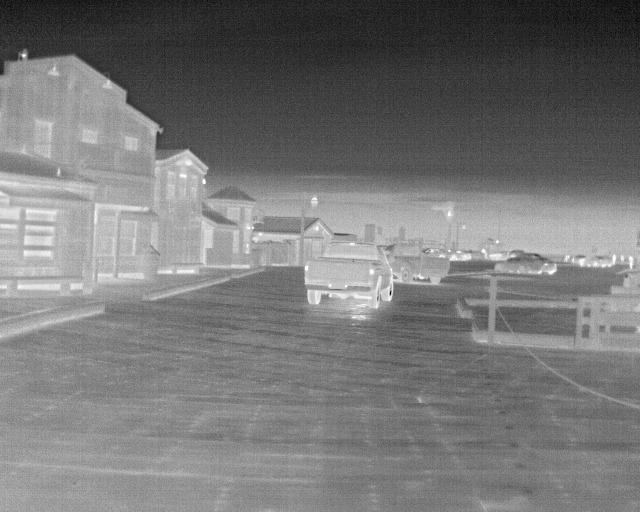car: (301, 239, 393, 314), (381, 240, 453, 286), (494, 252, 544, 279), (538, 256, 559, 277)
